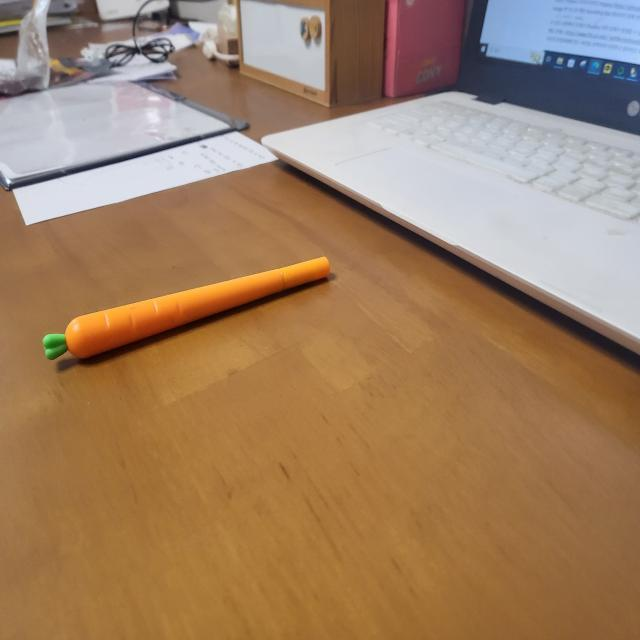carrot: (62, 252, 338, 362)
